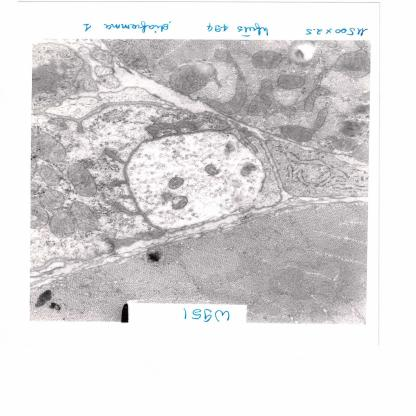mitochondria: (65, 201, 105, 235), (108, 39, 150, 71), (166, 66, 211, 95), (32, 128, 69, 163), (66, 162, 100, 198), (334, 50, 370, 79), (49, 212, 76, 240), (304, 85, 330, 112), (278, 124, 314, 143), (38, 188, 66, 210), (249, 51, 282, 69), (37, 164, 64, 186), (336, 120, 368, 138), (275, 74, 306, 90), (328, 136, 358, 152), (315, 109, 331, 133), (168, 194, 187, 210), (239, 163, 258, 177), (166, 176, 184, 190), (202, 164, 220, 176)
